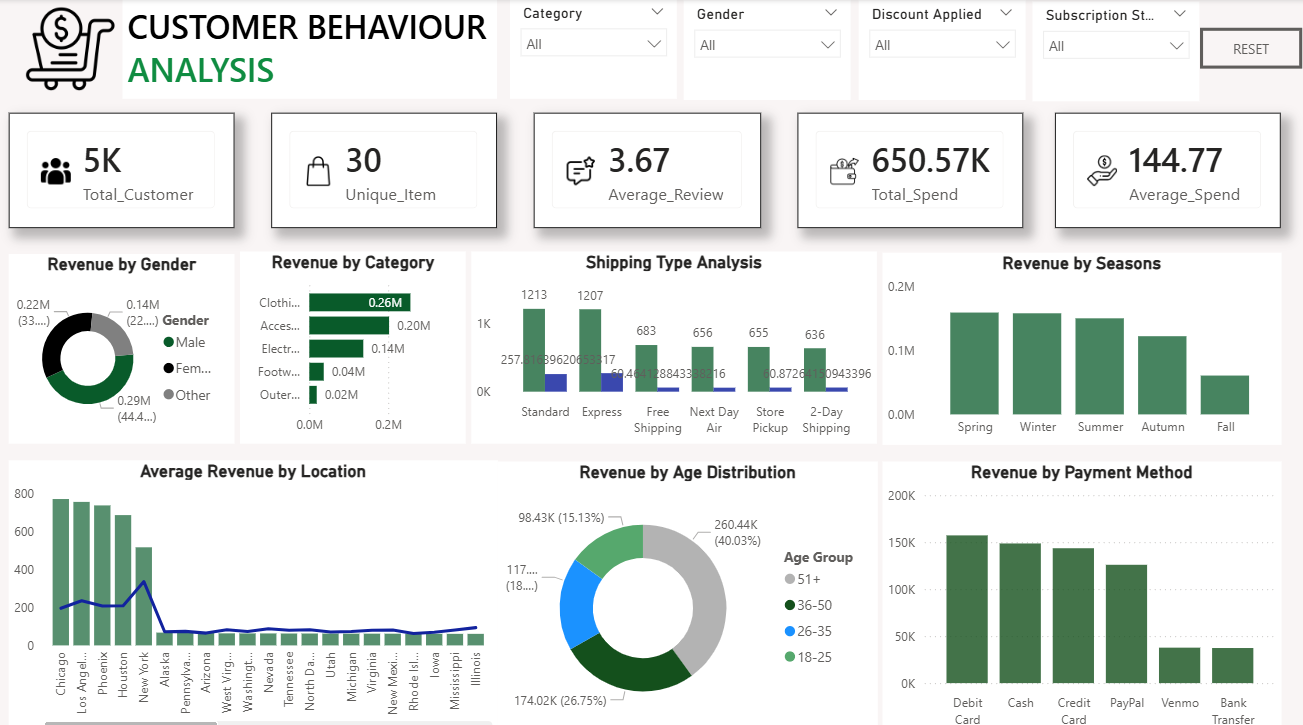

The page's visual inventory and layout, read from the dashboard file:
{"tool":"powerbi","page":{"name":"Page 1","canvas":[1280,720],"ordinal":0},"visuals":[{"type":"textbox","box":[124.9,0,366.4,97.4],"z":0},{"type":"image","box":[0,0,146.8,97.4],"z":1000},{"type":"cardVisual","fields":{"Data":["customer_shopping_behavior.Total_Customer"]},"box":[13.7,111.1,220.9,112.5],"z":2000},{"type":"cardVisual","fields":{"Data":["customer_shopping_behavior.Unique_Item"]},"box":[270.3,111.1,220.9,112.5],"z":3000},{"type":"cardVisual","fields":{"Data":["customer_shopping_behavior.Average_Review"]},"box":[526.9,111.1,222.3,112.5],"z":4000},{"type":"cardVisual","fields":{"Data":["customer_shopping_behavior.Total_Spend"]},"box":[784.9,111.1,220.9,112.5],"z":5000},{"type":"cardVisual","fields":{"Data":["customer_shopping_behavior.Average_Spend"]},"box":[1037.4,111.1,220.9,112.5],"z":6000},{"type":"slicer","fields":{"Values":["customer_shopping_behavior.Category"]},"box":[503.6,0,163.3,97.4],"z":7000},{"type":"slicer","fields":{"Values":["customer_shopping_behavior.Gender"]},"box":[674.2,1.4,163.3,97.4],"z":8000},{"type":"slicer","fields":{"Values":["customer_shopping_behavior.Discount Applied"]},"box":[844.8,1.4,163.3,97.4],"z":9000},{"type":"slicer","fields":{"Values":["customer_shopping_behavior.Subscription Status"]},"box":[1015.4,2.7,163.3,97.4],"z":10000},{"type":"donutChart","title":"Revenue by Gender","fields":{"Category":["customer_shopping_behavior.Gender"],"Y":["Sum(customer_shopping_behavior.Purchase Amount (USD))"]},"box":[13.3,248.9,221.1,185.6],"z":11000},{"type":"clusteredBarChart","title":"Revenue by Category","fields":{"Category":["customer_shopping_behavior.Category"],"Y":["Sum(customer_shopping_behavior.Purchase Amount (USD))"]},"box":[239.8,246.7,221.1,187.8],"z":12000},{"type":"clusteredColumnChart","title":"Shipping Type Analysis","fields":{"Category":["customer_shopping_behavior.Shipping Type"],"Y":["CountNonNull(customer_shopping_behavior.Customer ID)","Avg(customer_shopping_behavior.Purchase Amount (USD))"]},"box":[466.3,246.7,396.7,188.3],"z":13000},{"type":"columnChart","title":"Revenue by Seasons","fields":{"Category":["customer_shopping_behavior.Season"],"Y":["Sum(customer_shopping_behavior.Purchase Amount (USD))"]},"box":[868.3,248.3,390,188.3],"z":14000},{"type":"lineClusteredColumnComboChart","title":"Average Revenue by Location","fields":{"Category":["customer_shopping_behavior.Location"],"Y":["Avg(customer_shopping_behavior.Purchase Amount (USD))"],"Y2":["CountNonNull(customer_shopping_behavior.Customer ID)"]},"box":[13.3,451.7,478.3,268.3],"z":15000},{"type":"donutChart","title":"Revenue by Age Distribution","fields":{"Category":["customer_shopping_behavior.Age Group"],"Y":["Sum(customer_shopping_behavior.Purchase Amount (USD))"]},"box":[491,452,372,268],"z":16000},{"type":"columnChart","title":"Revenue by Payment Method","fields":{"Category":["customer_shopping_behavior.Payment Method"],"Y":["Sum(customer_shopping_behavior.Purchase Amount (USD))"]},"box":[868,452,390,268],"z":17000},{"type":"actionButton","box":[1178.3,28.3,100,40],"z":18000}]}

Visuals, with their boxes in screenshot pixels (x1, y1, x2, y2), scaled from the page's 1280x720 canvas onto the 1303x725 screenshot:
textbox: BBox(127, 0, 500, 98)
image: BBox(0, 0, 149, 98)
cardVisual - customer_shopping_behavior.Total_Customer: BBox(14, 112, 239, 225)
cardVisual - customer_shopping_behavior.Unique_Item: BBox(275, 112, 500, 225)
cardVisual - customer_shopping_behavior.Average_Review: BBox(536, 112, 763, 225)
cardVisual - customer_shopping_behavior.Total_Spend: BBox(799, 112, 1024, 225)
cardVisual - customer_shopping_behavior.Average_Spend: BBox(1056, 112, 1281, 225)
slicer - customer_shopping_behavior.Category: BBox(513, 0, 679, 98)
slicer - customer_shopping_behavior.Gender: BBox(686, 1, 853, 99)
slicer - customer_shopping_behavior.Discount Applied: BBox(860, 1, 1026, 99)
slicer - customer_shopping_behavior.Subscription Status: BBox(1034, 3, 1200, 101)
"Revenue by Gender" donutChart: BBox(14, 251, 239, 438)
"Revenue by Category" clusteredBarChart: BBox(244, 248, 469, 438)
"Shipping Type Analysis" clusteredColumnChart: BBox(475, 248, 879, 438)
"Revenue by Seasons" columnChart: BBox(884, 250, 1281, 440)
"Average Revenue by Location" lineClusteredColumnComboChart: BBox(14, 455, 500, 724)
"Revenue by Age Distribution" donutChart: BBox(500, 455, 879, 724)
"Revenue by Payment Method" columnChart: BBox(884, 455, 1281, 724)
actionButton: BBox(1199, 28, 1301, 69)
